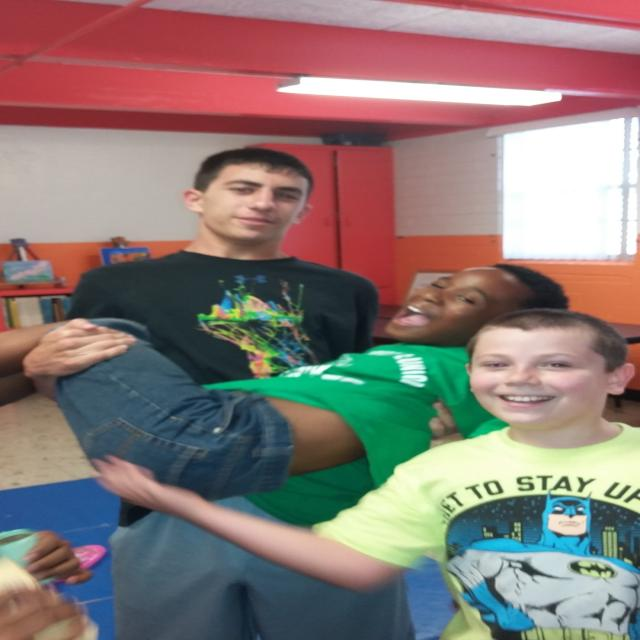body: (86, 305, 640, 640), (51, 136, 412, 640), (0, 261, 575, 527), (3, 529, 107, 640)
